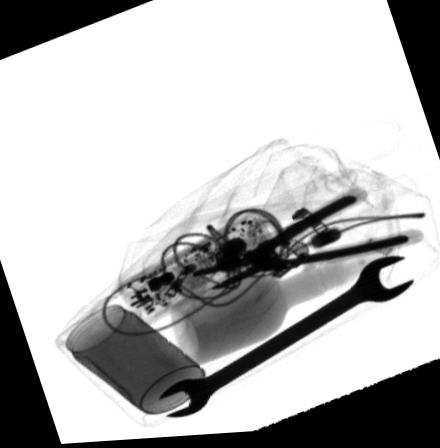Pliers: (185, 188, 425, 295)
Wrench: (155, 259, 416, 422)
